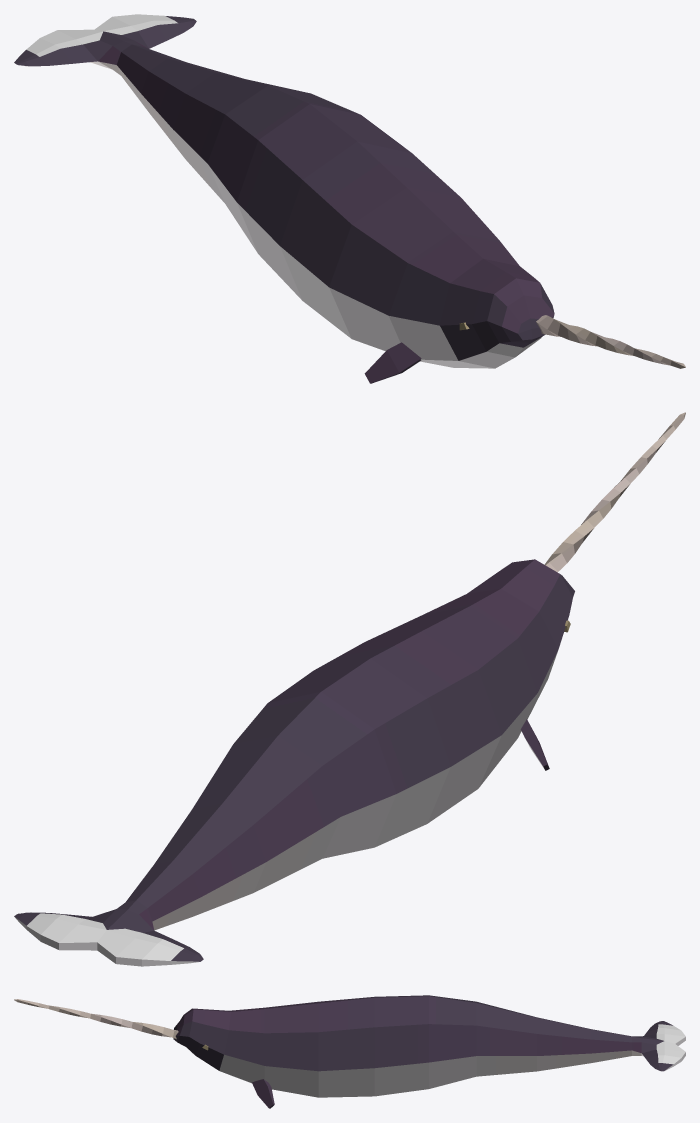
The model's file is prop_pz_narwhal.glb.
3 renders of one model, top to bottom at view 1: azimuth 30°, elevation 25°; view 2: azimuth 150°, elevation 25°; view 3: azimuth 270°, elevation 25°, orthographic. The views are drawn at different scales.
Parts seen in each view (by area): view 1: Geo_Narwhal; view 2: Geo_Narwhal; view 3: Geo_Narwhal.
Boxes of the visible parts, box(x1,y1,x2,y2) form: Geo_Narwhal: box(14, 14, 685, 383); Geo_Narwhal: box(14, 412, 685, 966); Geo_Narwhal: box(14, 995, 685, 1108).
Size of the model in its own units: 118 by 110 by 669.
1 material, 1 textured.
